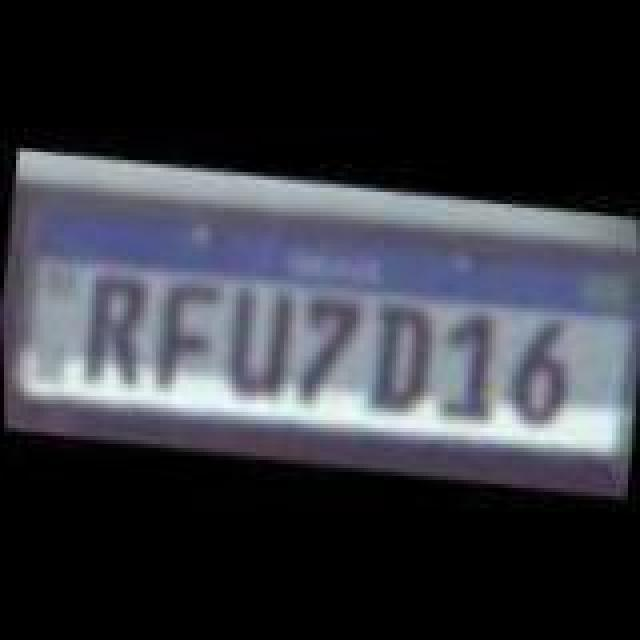1: (434, 296, 514, 424)
6: (498, 308, 578, 428)
7: (286, 282, 362, 410)
D: (362, 294, 442, 426)
F: (140, 276, 228, 408)
R: (74, 270, 150, 394)
U: (214, 276, 298, 404)
